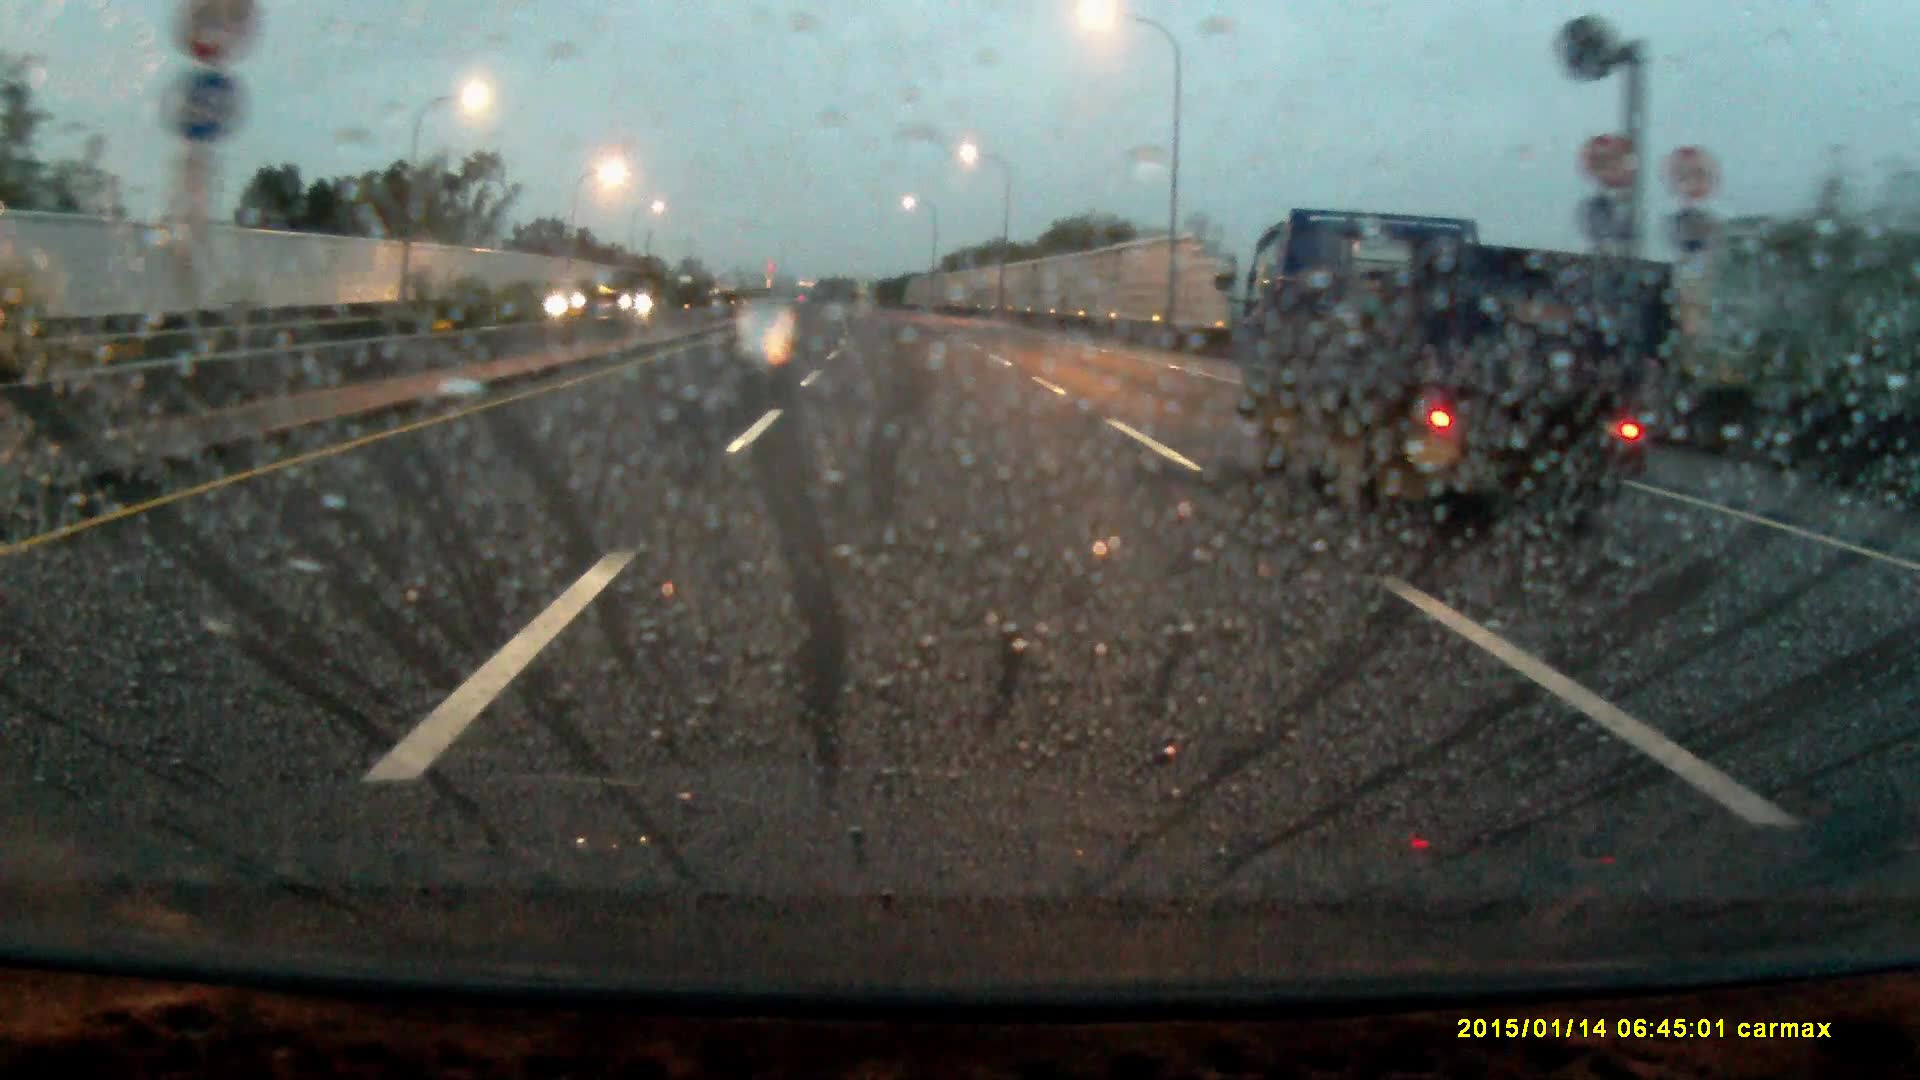vehicle: (1226, 202, 1691, 539)
